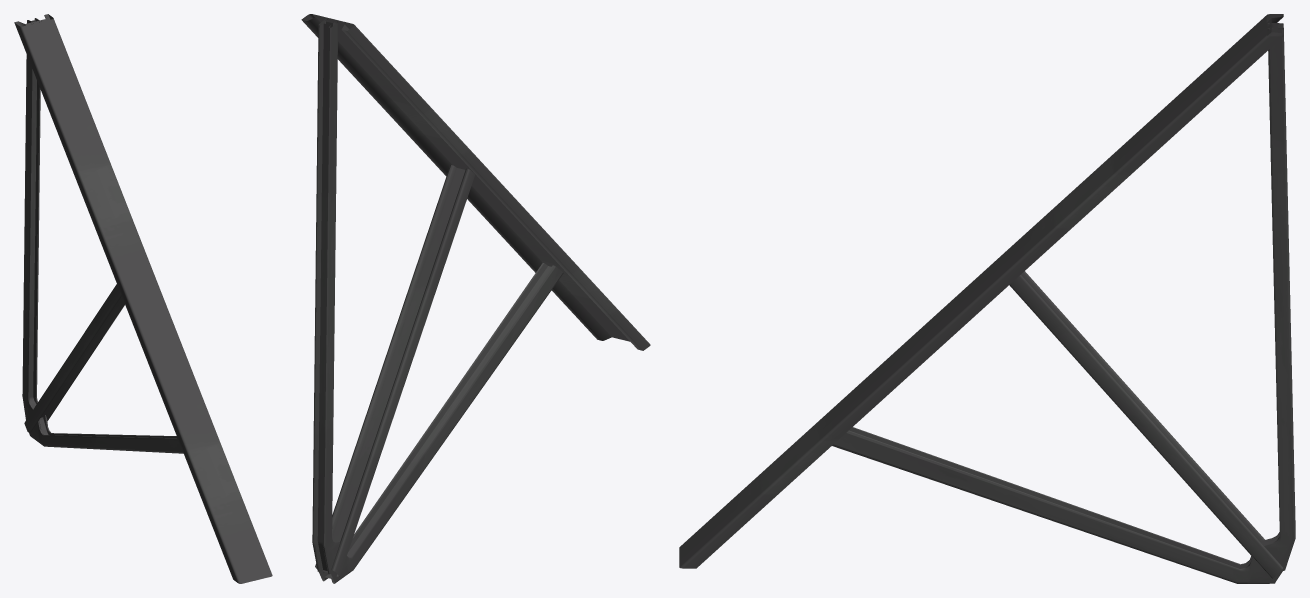
Rendered from EN_W_fence3.fbx.
3 renders of one model, left to right at view 1: azimuth 30°, elevation 25°; view 2: azimuth 150°, elevation 25°; view 3: azimuth 270°, elevation 25°, orthographic. The views are drawn at different scales.
Parts seen in each view (by area): view 1: EN_W_fence3; view 2: EN_W_fence3; view 3: EN_W_fence3.
Boxes of the visible parts, box(x1,y1,x2,y2) form: EN_W_fence3: box(14, 14, 272, 583); EN_W_fence3: box(301, 14, 650, 583); EN_W_fence3: box(679, 14, 1295, 583).
Bounding box in the file's own units: 17.96 × 209 × 210.
